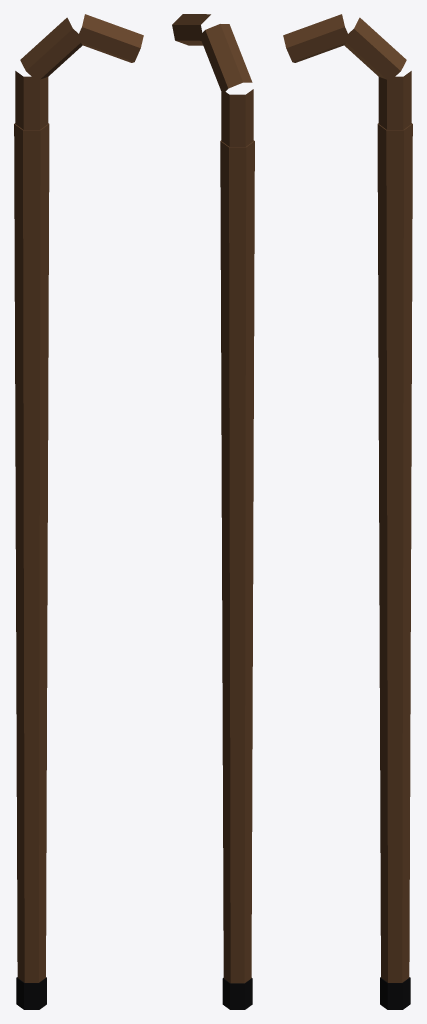
Rendered from cane.glb.
3 renders of one model, left to right at view 1: azimuth 90°, elevation 25°; view 2: azimuth 210°, elevation 25°; view 3: azimuth 270°, elevation 25°, orthographic.
Visible parts, largest first — view 1: cane; view 2: cane; view 3: cane.
Boxes of the visible parts, box(x1,y1,x2,y2) form: cane: box(14, 14, 143, 1009); cane: box(172, 14, 254, 1009); cane: box(283, 14, 412, 1009).
Size of the model in its own units: 0.026 by 0.928 by 0.1102.
